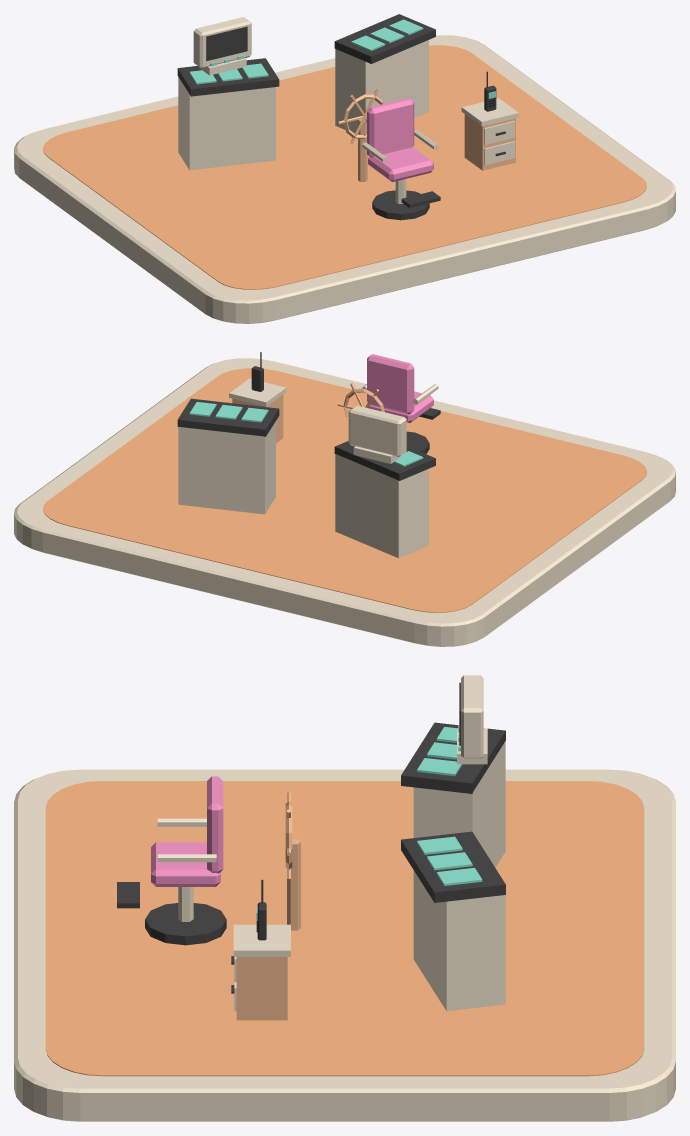
File: room.fbx
3 views of the same model, one above another, from view 1: azimuth 30°, elevation 25°; view 2: azimuth 150°, elevation 25°; view 3: azimuth 270°, elevation 25° (orthographic). The views are drawn at different scales.
Parts seen in each view (by area): view 1: COM-02 Floor Surface, COM-01 Rounded Base Direct, Console, Console.001, Back, Panel.001, Panel, Seat, Housing, Body, Base, Readout.006 (+4 smaller); view 2: COM-02 Floor Surface, COM-01 Rounded Base Direct, Console.001, Console, Housing, Back, Panel.001, Panel, Top, Seat, Body; view 3: COM-02 Floor Surface, COM-01 Rounded Base Direct, Console.001, Console, Panel.001, Body, Panel, Base, Seat, Housing, Top, Back (+1 smaller).
Part boxes in pixels (<box>): COM-02 Floor Surface: <box>43,45,646,289</box>; COM-01 Rounded Base Direct: <box>14,35,675,323</box>; Console: <box>178,77,275,170</box>; Console.001: <box>335,40,428,133</box>; Back: <box>367,98,414,157</box>; Panel.001: <box>334,14,435,63</box>; Panel: <box>177,58,279,96</box>; Seat: <box>368,147,433,181</box>; Housing: <box>193,17,251,68</box>; Body: <box>464,114,515,170</box>; Base: <box>372,190,429,220</box>; Readout.006: <box>206,26,247,60</box>; COM-02 Floor Surface: <box>43,368,646,612</box>; COM-01 Rounded Base Direct: <box>14,358,675,646</box>; Console.001: <box>178,421,275,514</box>; Console: <box>335,454,428,558</box>; Housing: <box>348,405,406,456</box>; Back: <box>367,354,414,414</box>; Panel.001: <box>177,398,279,436</box>; Panel: <box>334,441,435,480</box>; Top: <box>229,378,286,406</box>; Seat: <box>368,391,433,423</box>; Body: <box>232,395,283,442</box>; COM-02 Floor Surface: <box>45,781,644,1076</box>; COM-01 Rounded Base Direct: <box>14,769,675,1121</box>; Console.001: <box>413,870,505,1011</box>; Console: <box>413,741,505,867</box>; Panel.001: <box>401,831,505,902</box>; Body: <box>236,957,287,1020</box>; Panel: <box>401,722,505,793</box>; Base: <box>145,903,226,945</box>; Seat: <box>151,842,220,886</box>; Housing: <box>461,675,483,758</box>; Top: <box>233,924,290,956</box>; Back: <box>207,776,223,873</box>.
Bounding box in the file's own units: 600 × 188 × 520.
